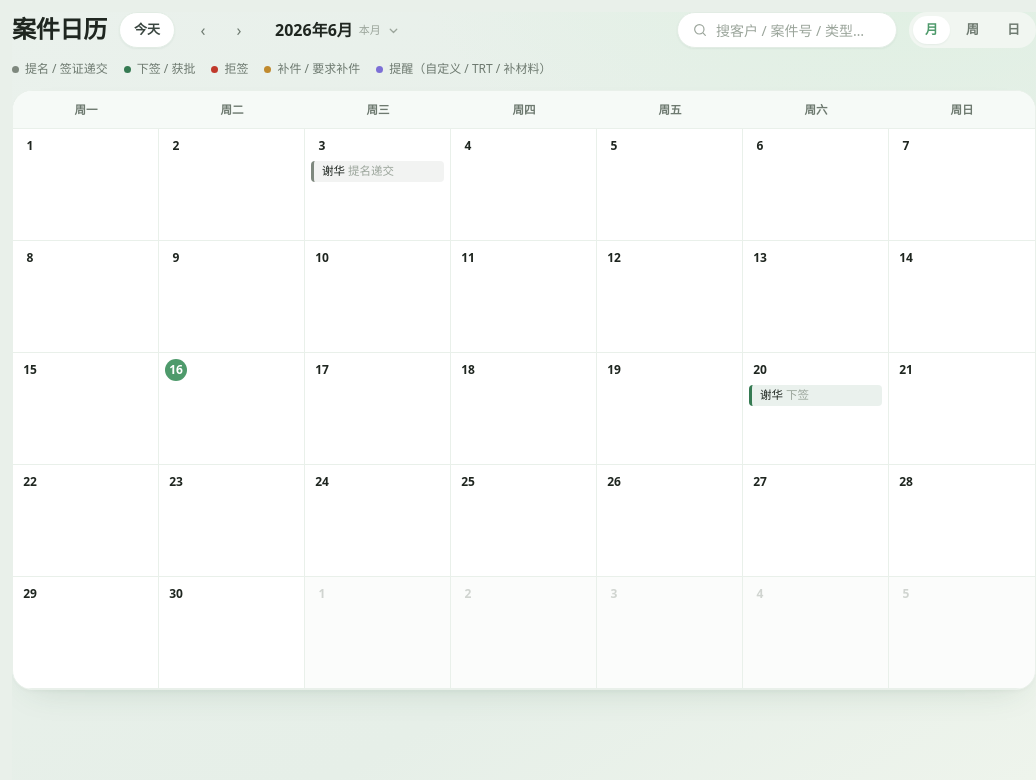
Test: CalendarPage·Google 风（顶栏 + 彩条 + 三视图） › 视图切换：周 → 只显本周(6/15–6/21)，本周外事件(6/3 递交)不在；日 → 只今天
The width and height of the screenshot is (1036, 780).
Click the button "周" at x=972, y=30, box [954,16,991,44]
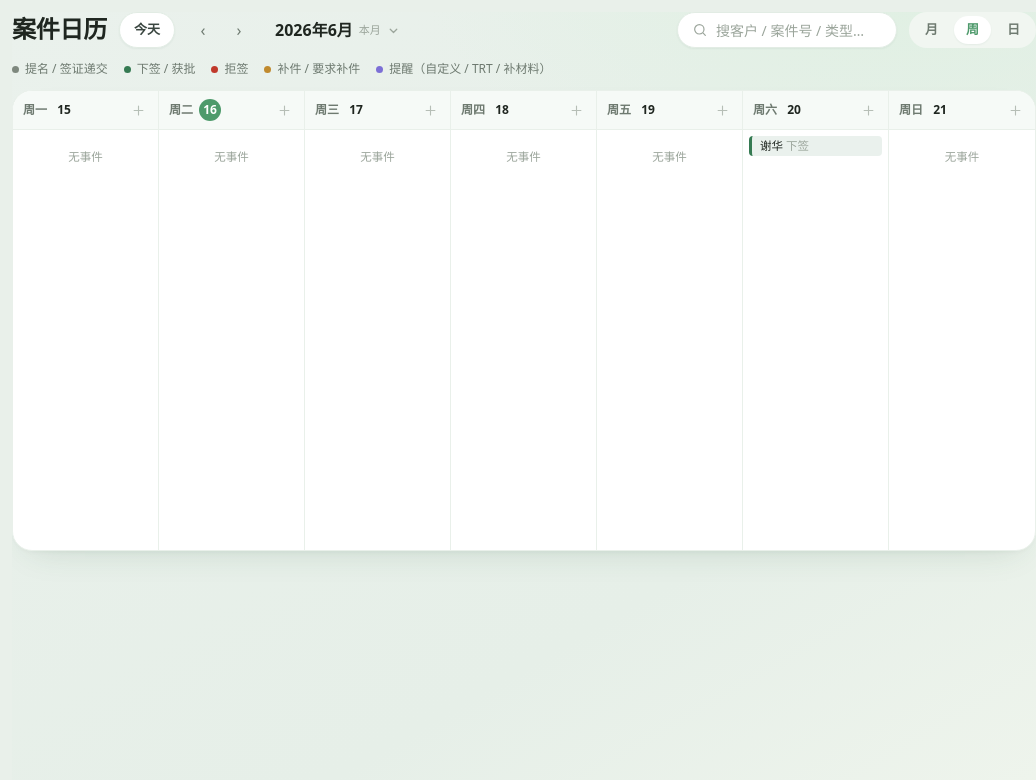
Expected: the text "15" is shown, [57,101,71,118]
Expected: the button "谢华 提名递交" is gone
// 日视图：今天 6/16，默认事件均不在 6/16 → 无事件
Click the button "日" at x=1014, y=30, box [995,16,1032,44]
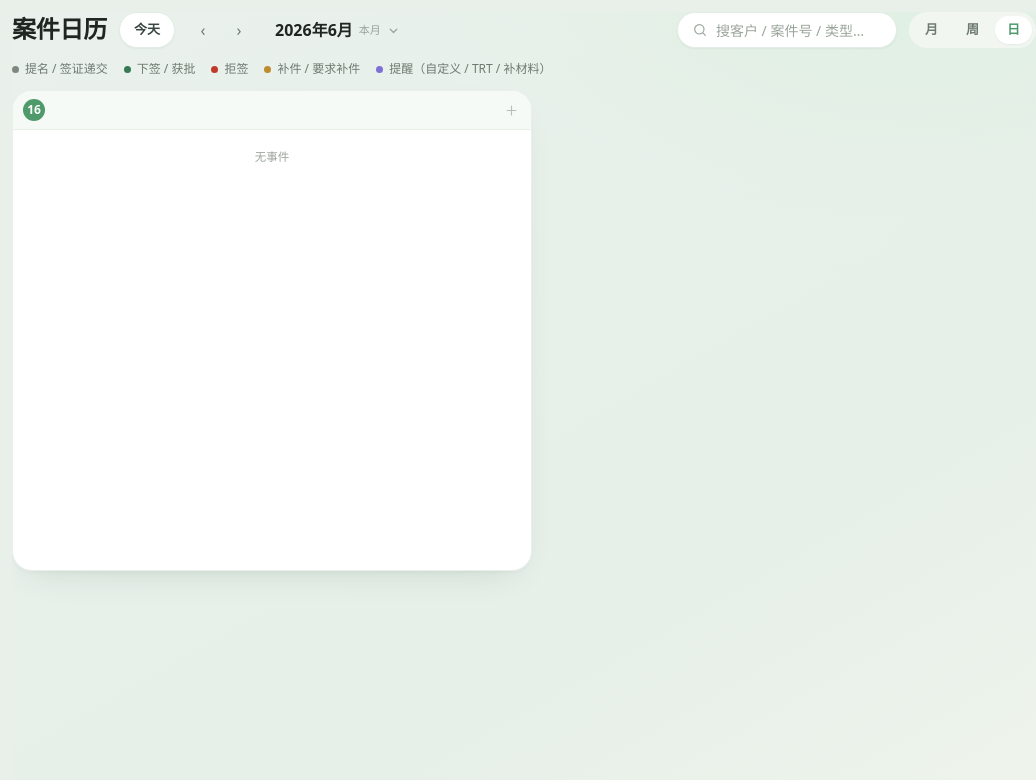
Expected: the text "无事件" is shown, [255,149,289,164]
Expected: the button "谢华 下签" is gone
